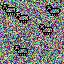sheep: (2, 4, 17, 16), (15, 12, 30, 23), (46, 5, 61, 16), (39, 24, 53, 35), (14, 45, 28, 56)
